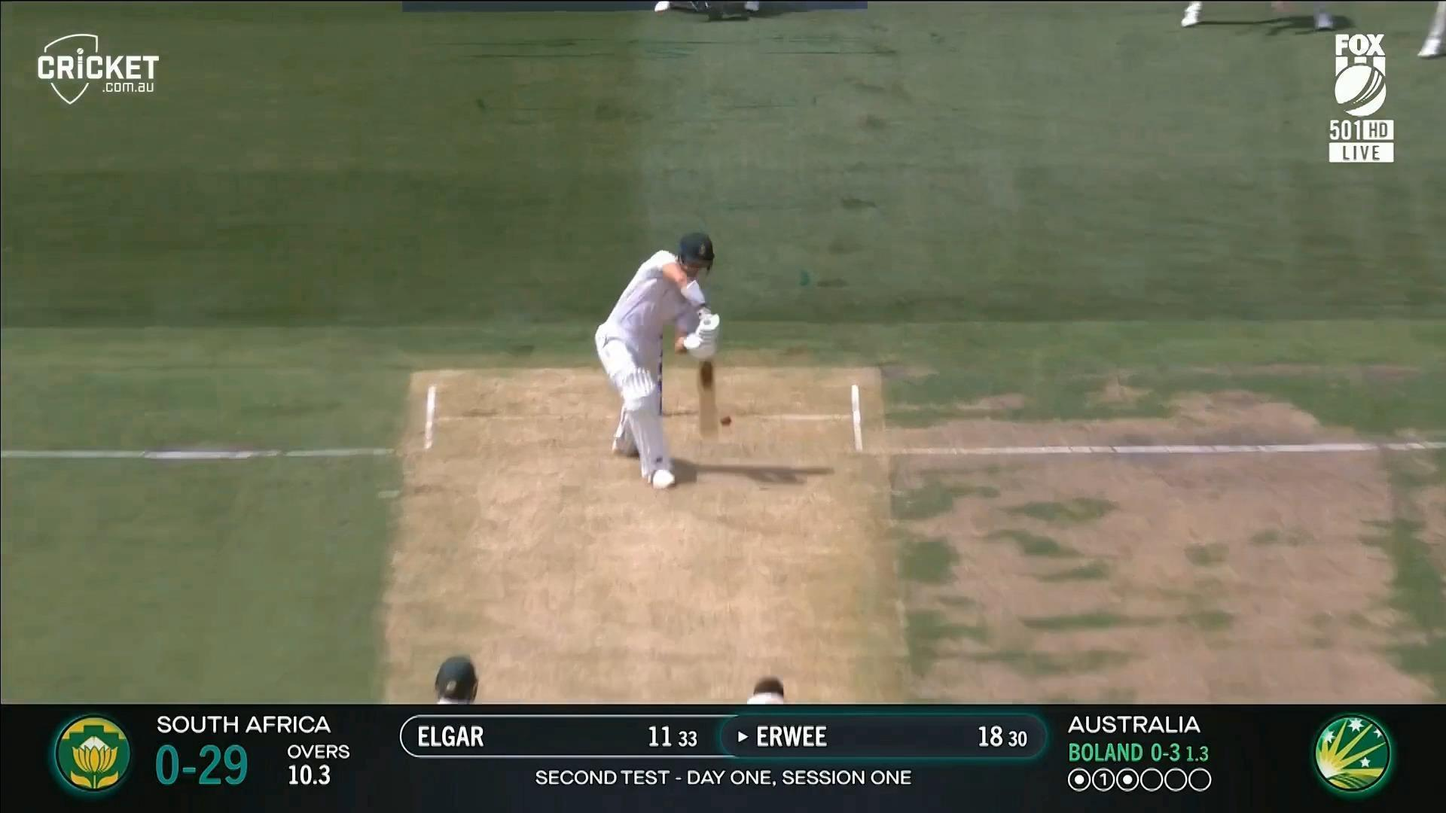BM 1: (593, 231, 722, 490)
BO: (707, 676, 838, 813)
